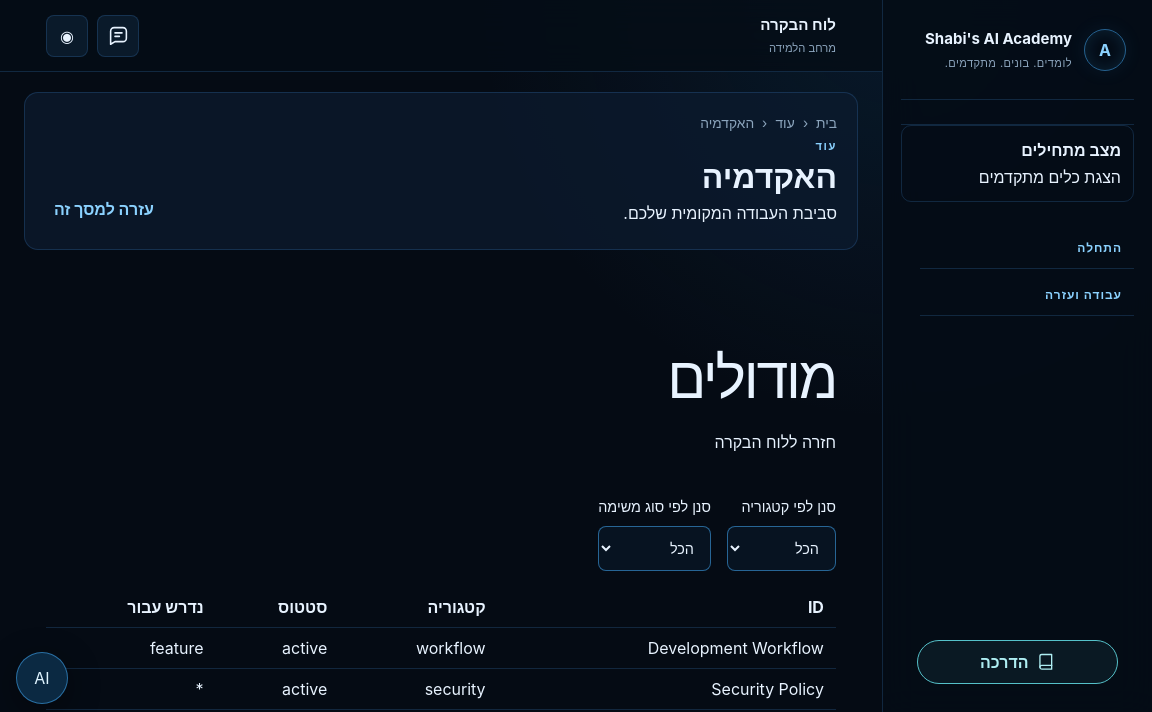
Test: AOS modules page › lists modules and can filter by category
Check: the text "Development Workflow" is shown, box [648,638,824,658]
Check: the text "Security Policy" is shown, box [711,679,824,699]
Select "security" in the dropdown labelled "סנן לפי קטגוריה" at (781,548), box [727,526,836,571]
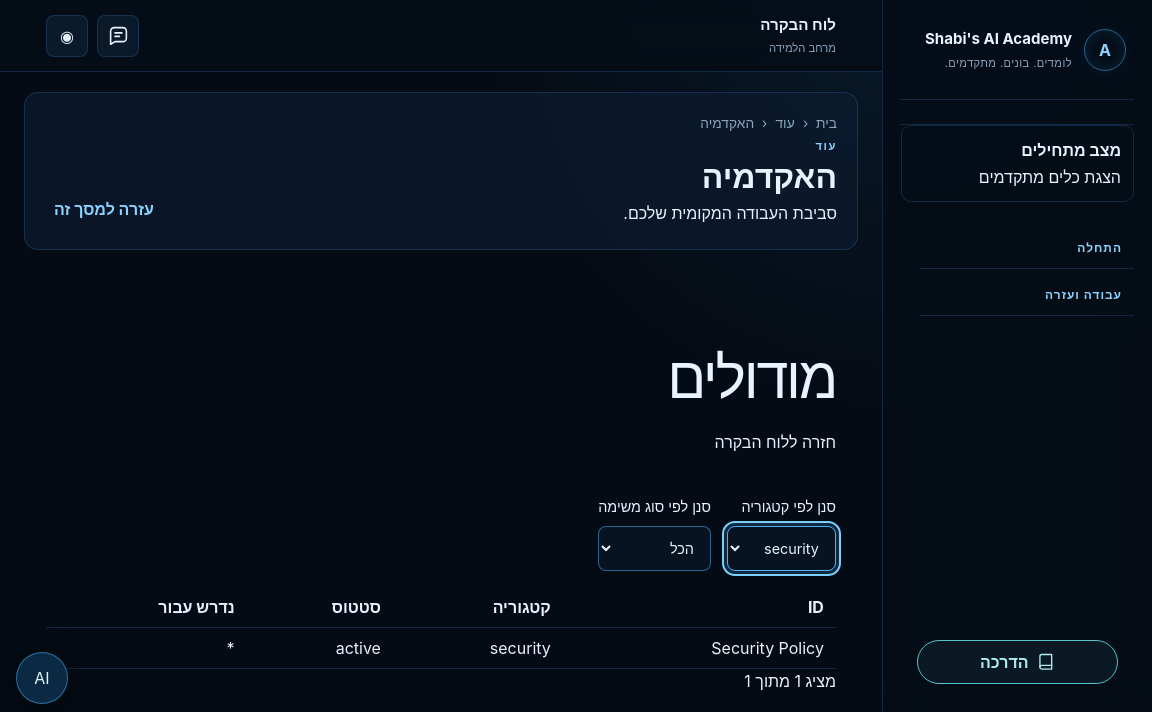
Check: the text "Security Policy" is shown, box [711,638,824,658]
Check: the text "Development Workflow" is gone
